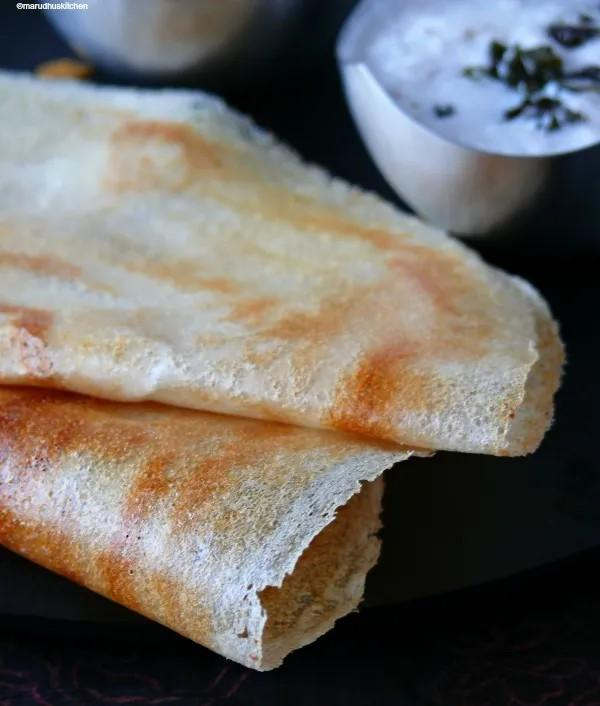CoconutChutney: (356, 0, 600, 156)
Dosa: (1, 77, 600, 454), (0, 385, 433, 670)
